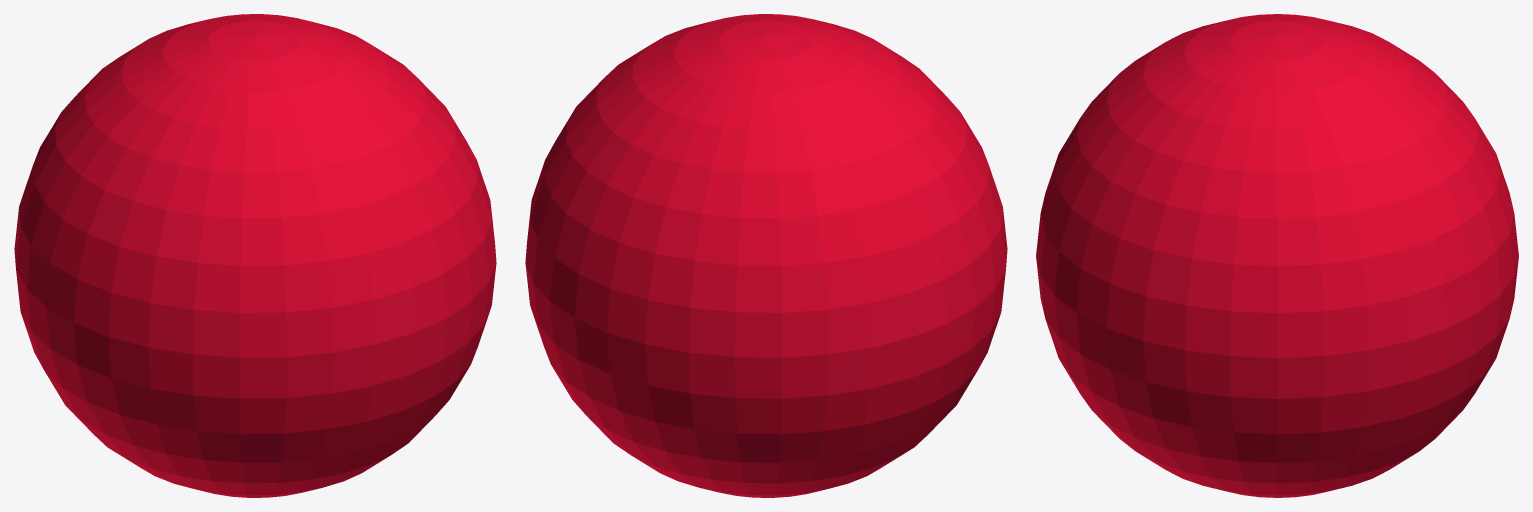
Rendered from MartinBremer_BouncingBallMoving.fbx.
The picture shows the model from 3 angles, left to right: view 1: azimuth 30°, elevation 25°; view 2: azimuth 150°, elevation 25°; view 3: azimuth 270°, elevation 25°; orthographic projection.
Visible parts, largest first — view 1: Moving Bounce; view 2: Moving Bounce; view 3: Moving Bounce.
Part boxes in pixels (x1,y1,x2,y2): Moving Bounce: (14,14,496,497); Moving Bounce: (525,14,1007,497); Moving Bounce: (1036,14,1518,497).
Size of the model in its own units: 200 by 200 by 200.
